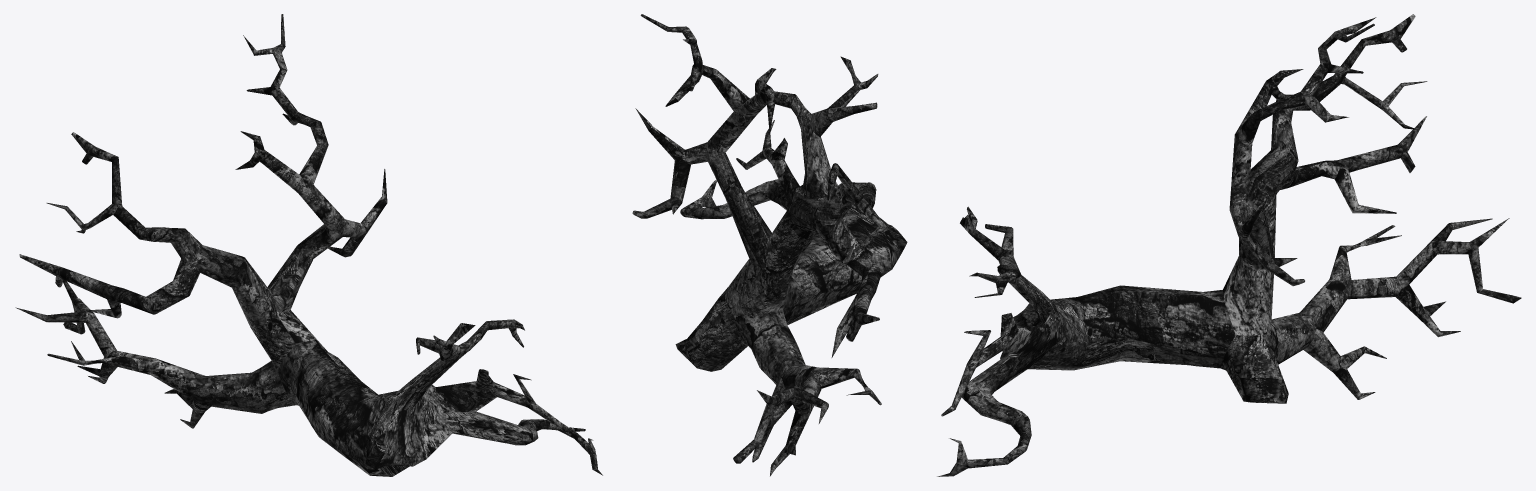
Rendered from DeadTreeLying.fbx.
3 renders of one model, left to right at view 1: azimuth 30°, elevation 25°; view 2: azimuth 150°, elevation 25°; view 3: azimuth 270°, elevation 25°, orthographic. The views are drawn at different scales.
Parts seen in each view (by area): view 1: DeadTree1; view 2: DeadTree1; view 3: DeadTree1.
Boxes of the visible parts, x1,y1,x2,y2 form: DeadTree1: [15, 14, 602, 476]; DeadTree1: [632, 14, 907, 476]; DeadTree1: [937, 14, 1521, 476].
Bounding box in the file's own units: 4 × 3.99 × 4.95.
